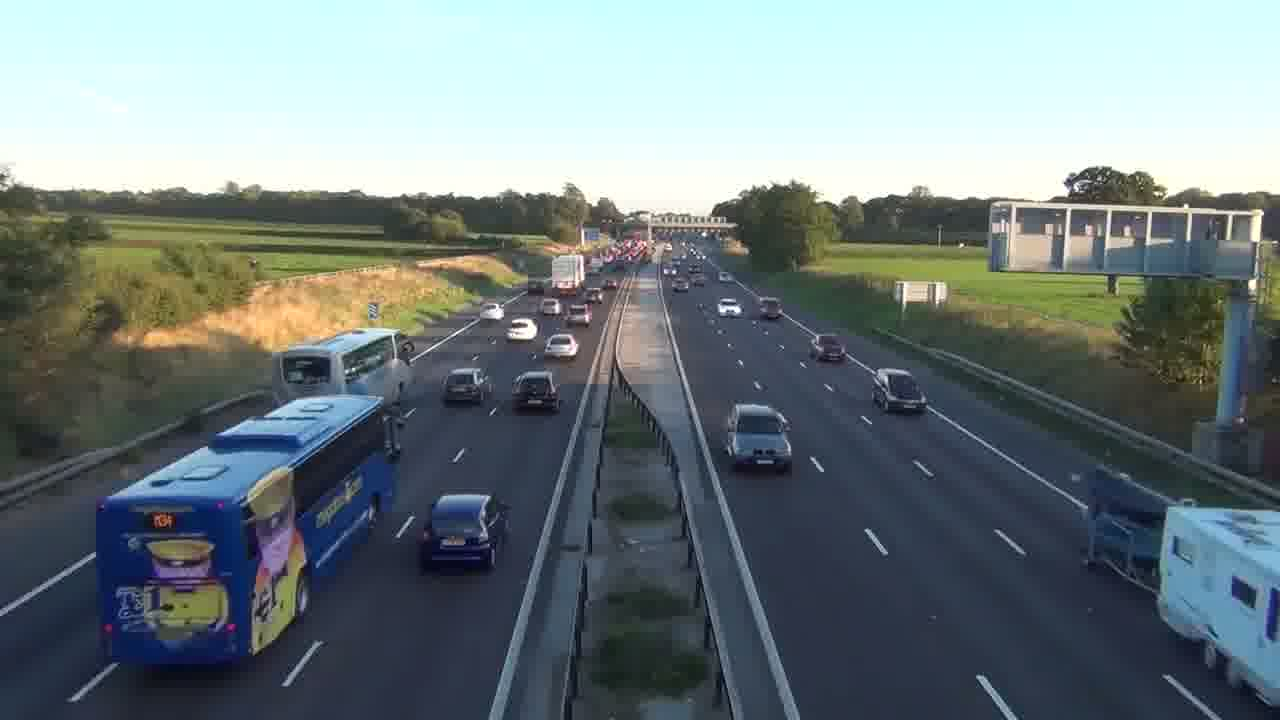bus: (95, 392, 393, 667), (270, 326, 399, 407)
car: (418, 492, 508, 572), (871, 367, 927, 414), (510, 369, 561, 412), (443, 367, 488, 406), (813, 334, 846, 364), (544, 332, 580, 359), (505, 318, 538, 342)
truck: (1154, 505, 1279, 707), (724, 401, 793, 473), (551, 254, 585, 293)
